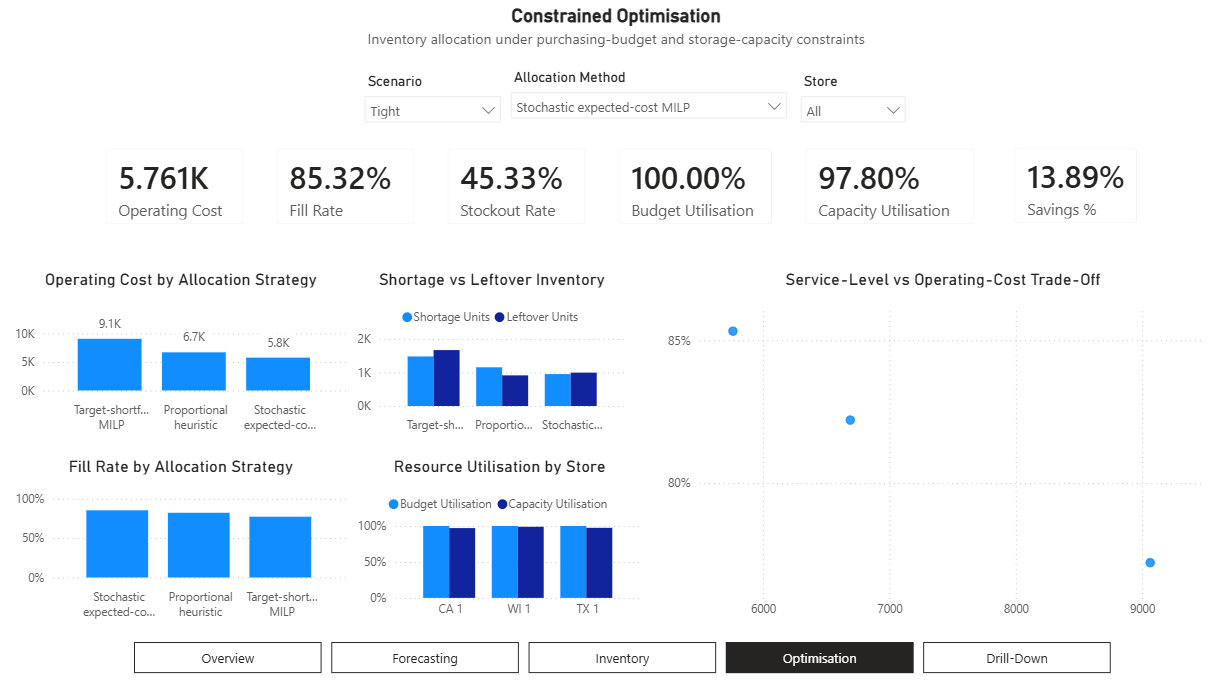

This screenshot's page, from the dashboard's own definition file:
{"tool":"powerbi","page":{"name":"Optimisation","canvas":[1280,720],"ordinal":3},"visuals":[{"type":"textbox","title":"Constrained Optimisation","box":[256,16,768,64],"z":0},{"type":"slicer","fields":{"Values":["dim_constraint_scenario.scenario_name"]},"box":[371.7,82.6,160,64],"z":1000},{"type":"slicer","fields":{"Values":["dim_allocation_method.allocation_method_name"]},"box":[522,78.5,304,64],"z":2000},{"type":"slicer","fields":{"Values":["dim_store.store_name"]},"box":[819.7,82.6,128,64],"z":3000},{"type":"cardVisual","fields":{"Data":["KPI Measures.Constrained Operating Cost"]},"box":[97.9,147.3,176,112],"z":4000},{"type":"cardVisual","fields":{"Data":["KPI Measures.Constrained Fill Rate"]},"box":[273.9,147.3,176,112],"z":5000},{"type":"cardVisual","fields":{"Data":["KPI Measures.Constrained Stockout Rate"]},"box":[449.9,147.3,176,112],"z":6000},{"type":"cardVisual","fields":{"Data":["KPI Measures.Budget Utilisation"]},"box":[625.9,147.3,192,112],"z":7000},{"type":"cardVisual","fields":{"Data":["KPI Measures.Capacity Utilisation"]},"box":[817.9,147.3,208,112],"z":8000},{"type":"cardVisual","fields":{"Data":["KPI Measures.Optimisation Savings %"]},"box":[1032.9,146.2,160,112],"z":9000},{"type":"lineClusteredColumnComboChart","title":"Operating Cost by Allocation Strategy","fields":{"Category":["dim_allocation_method.allocation_method_name"],"Y":["KPI Measures.Constrained Operating Cost"]},"box":[16,288,352,176],"z":10000},{"type":"lineClusteredColumnComboChart","title":"Fill Rate by Allocation Strategy","fields":{"Y":["KPI Measures.Constrained Fill Rate"],"Category":["dim_allocation_method.allocation_method_name"]},"box":[16,480,352,176],"z":11000},{"type":"lineClusteredColumnComboChart","title":"Shortage vs Leftover Inventory","fields":{"Category":["dim_allocation_method.allocation_method_name"],"Y":["KPI Measures.Constrained Shortage Units","KPI Measures.Constrained Leftover Units"]},"box":[368,288,288,176],"z":12000},{"type":"lineClusteredColumnComboChart","title":"Resource Utilisation by Store","fields":{"Y":["KPI Measures.Budget Utilisation","KPI Measures.Capacity Utilisation"],"Category":["dim_store.store_name"]},"box":[368,480,304,176],"z":13000},{"type":"scatterChart","title":"Service-Level vs Operating-Cost Trade-Off","fields":{"X":["KPI Measures.Constrained Operating Cost"],"Y":["KPI Measures.Constrained Fill Rate"],"Category":["dim_allocation_method.allocation_method_name"]},"box":[688,288,576,368],"z":14000},{"type":"pageNavigator","box":[144,672,1008,32],"z":14001}]}

Visuals, with their boxes in screenshot pixels (x1, y1, x2, y2), scaled from the page's 1280x720 canvas onto the 1231x683 screenshot:
"Constrained Optimisation" textbox: (left=246, top=15, right=985, bottom=76)
slicer - dim_constraint_scenario.scenario_name: (left=357, top=78, right=511, bottom=139)
slicer - dim_allocation_method.allocation_method_name: (left=502, top=74, right=794, bottom=135)
slicer - dim_store.store_name: (left=788, top=78, right=911, bottom=139)
cardVisual - KPI Measures.Constrained Operating Cost: (left=94, top=140, right=263, bottom=246)
cardVisual - KPI Measures.Constrained Fill Rate: (left=263, top=140, right=433, bottom=246)
cardVisual - KPI Measures.Constrained Stockout Rate: (left=433, top=140, right=602, bottom=246)
cardVisual - KPI Measures.Budget Utilisation: (left=602, top=140, right=787, bottom=246)
cardVisual - KPI Measures.Capacity Utilisation: (left=787, top=140, right=987, bottom=246)
cardVisual - KPI Measures.Optimisation Savings %: (left=993, top=139, right=1147, bottom=245)
"Operating Cost by Allocation Strategy" lineClusteredColumnComboChart: (left=15, top=273, right=354, bottom=440)
"Fill Rate by Allocation Strategy" lineClusteredColumnComboChart: (left=15, top=455, right=354, bottom=622)
"Shortage vs Leftover Inventory" lineClusteredColumnComboChart: (left=354, top=273, right=631, bottom=440)
"Resource Utilisation by Store" lineClusteredColumnComboChart: (left=354, top=455, right=646, bottom=622)
"Service-Level vs Operating-Cost Trade-Off" scatterChart: (left=662, top=273, right=1216, bottom=622)
pageNavigator: (left=138, top=637, right=1108, bottom=668)
